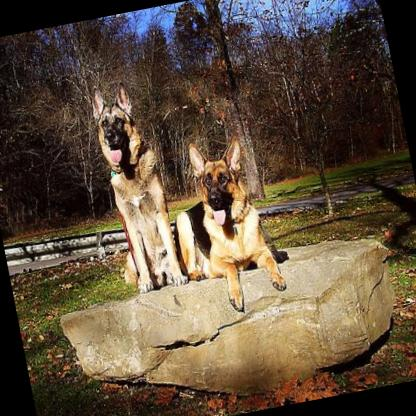German_shepherd: (155, 127, 290, 322), (86, 76, 184, 296)
